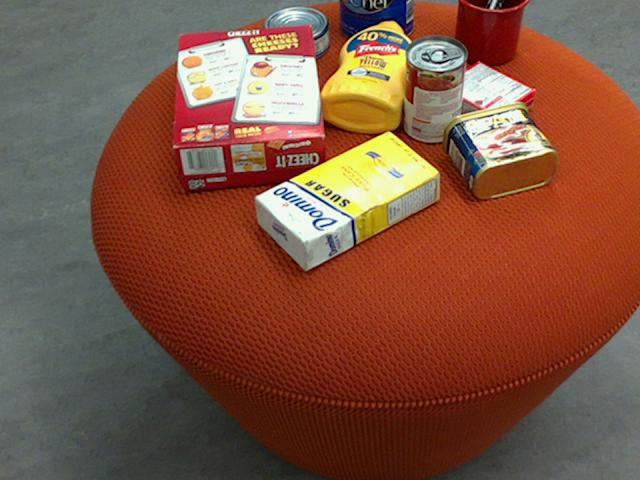cracker_box: (170, 23, 326, 187)
gelatin_box: (440, 62, 536, 132)
large_marker: (467, 0, 501, 56)
master_chef_can: (338, 0, 414, 42)
mug: (453, 0, 529, 64)
mustard_bottle: (318, 20, 417, 132)
potted_meat_can: (440, 101, 556, 198)
sugar_box: (253, 129, 441, 271)
tomato_soup_can: (403, 34, 466, 142)
tuna_fish_can: (262, 6, 328, 60)
